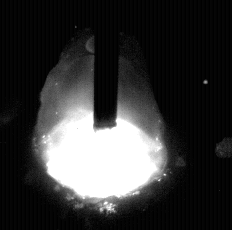arame: (95, 0, 119, 129)
poca: (32, 0, 166, 230)
